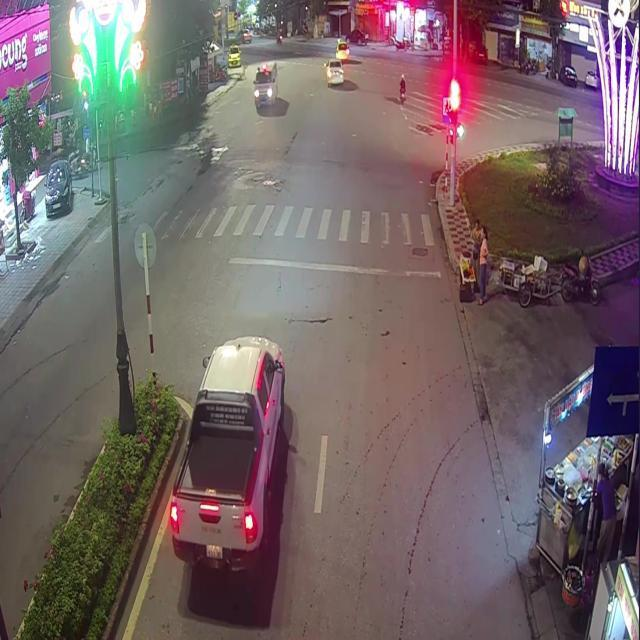car: (168, 335, 284, 569), (324, 60, 343, 85), (334, 37, 349, 61)
red_light: (450, 92, 457, 125)
stop_line: (226, 256, 440, 277)
